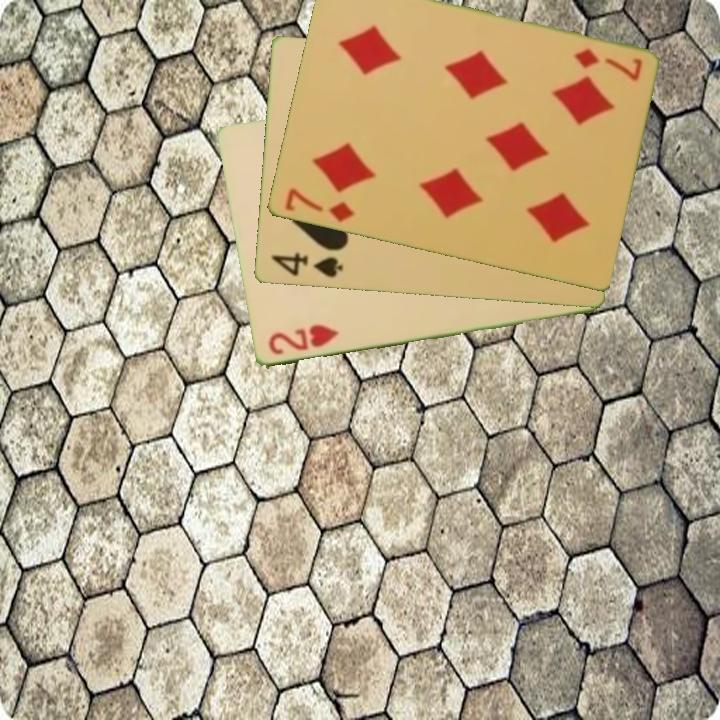2h: (264, 321, 342, 359)
4s: (267, 249, 346, 281)
7d: (281, 185, 357, 225), (570, 45, 645, 84)
